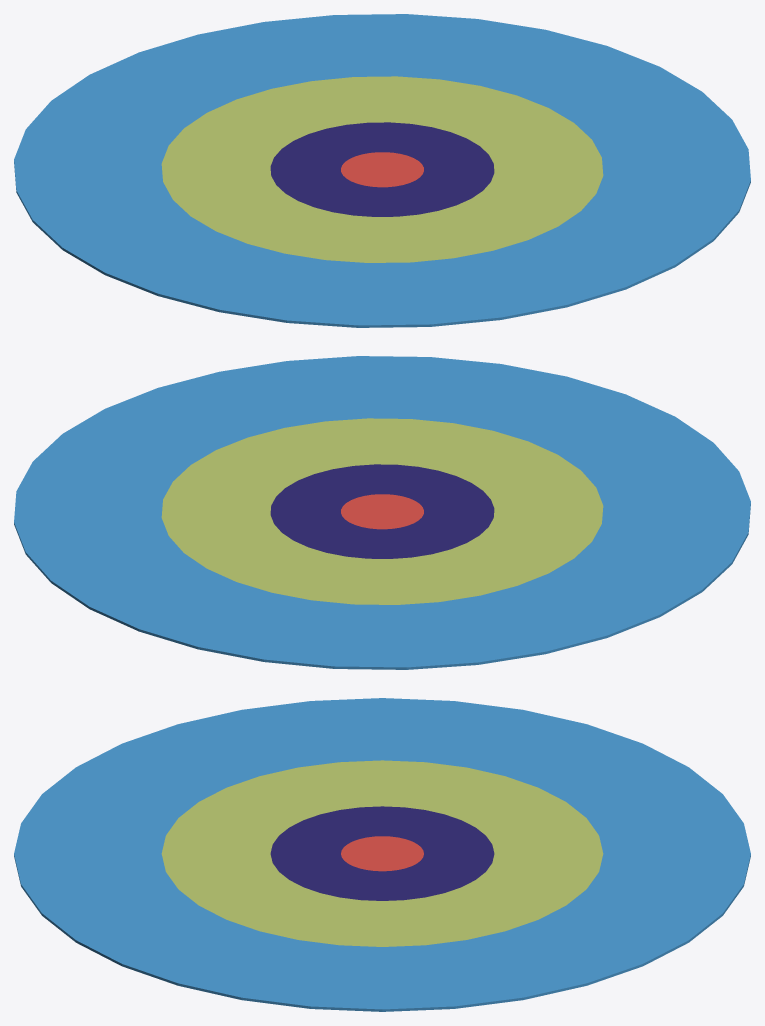
File: Spinning circular disks.fbx
3 renders of one model, top to bottom at view 1: azimuth 30°, elevation 25°; view 2: azimuth 150°, elevation 25°; view 3: azimuth 270°, elevation 25°, orthographic.
Parts seen in each view (by area): view 1: Cylinder.003, Cylinder.002, Cylinder.001, Cylinder; view 2: Cylinder.003, Cylinder.002, Cylinder.001, Cylinder; view 3: Cylinder.003, Cylinder.002, Cylinder.001, Cylinder.
Boxes of the visible parts, <box> form: Cylinder.003: <box>14,14,750,327</box>; Cylinder.002: <box>161,76,603,262</box>; Cylinder.001: <box>270,122,494,216</box>; Cylinder: <box>341,152,423,187</box>; Cylinder.003: <box>14,356,750,669</box>; Cylinder.002: <box>161,418,603,604</box>; Cylinder.001: <box>270,464,494,558</box>; Cylinder: <box>341,494,423,529</box>; Cylinder.003: <box>14,698,750,1011</box>; Cylinder.002: <box>161,760,603,946</box>; Cylinder.001: <box>270,806,494,900</box>; Cylinder: <box>341,836,423,871</box>.
Bounding box in the file's own units: 540 × 2.01 × 540.
